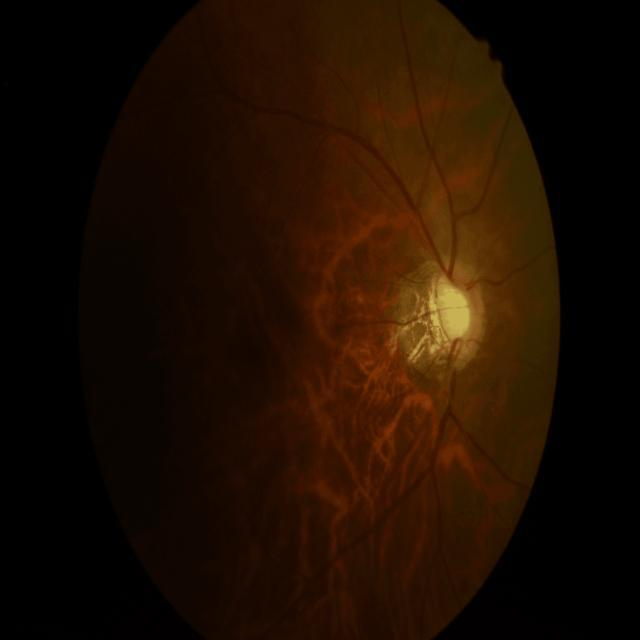cup: (437, 279, 472, 339)
disk: (434, 272, 476, 344)
